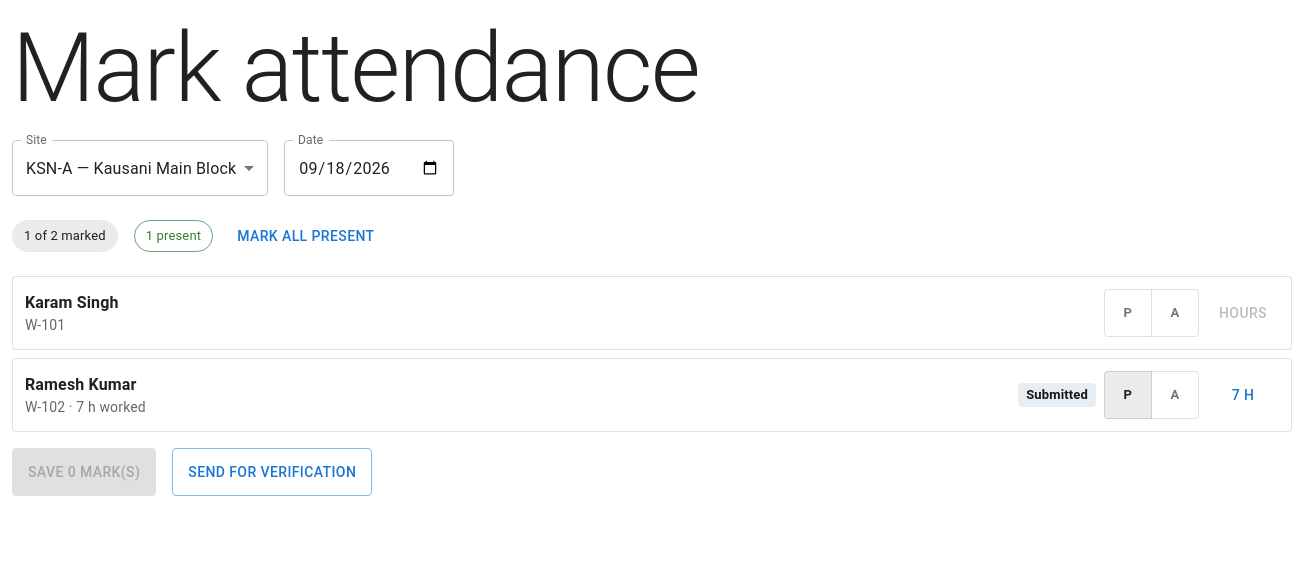
MarkAttendancePage › keeps the marks on the phone when the signal goes, rather than stalling
Expected: the text "Karam Singh" is shown, top-left (25, 293), bottom-right (119, 312)
Click the button "Mark all present".
click(306, 236)  # box top-left (229, 212), bottom-right (383, 260)
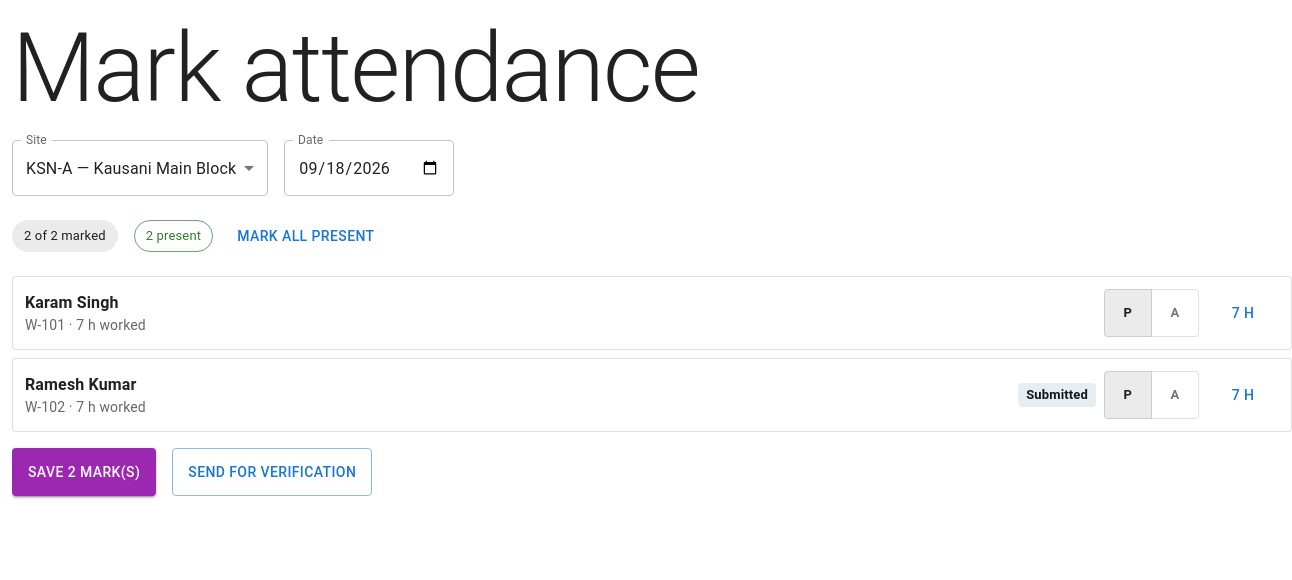
Click the button "Save 2 mark(s)".
click(84, 472)  # box top-left (12, 448), bottom-right (156, 496)
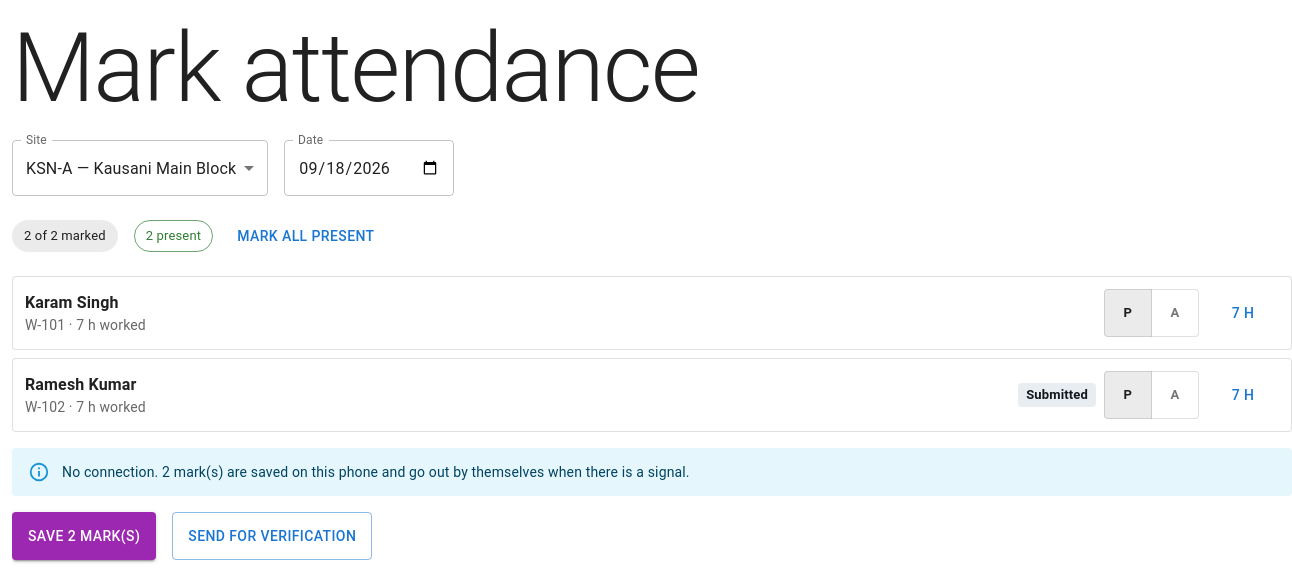
Now the text "saved on this phone" is shown, box top-left (170, 464), bottom-right (690, 480)
